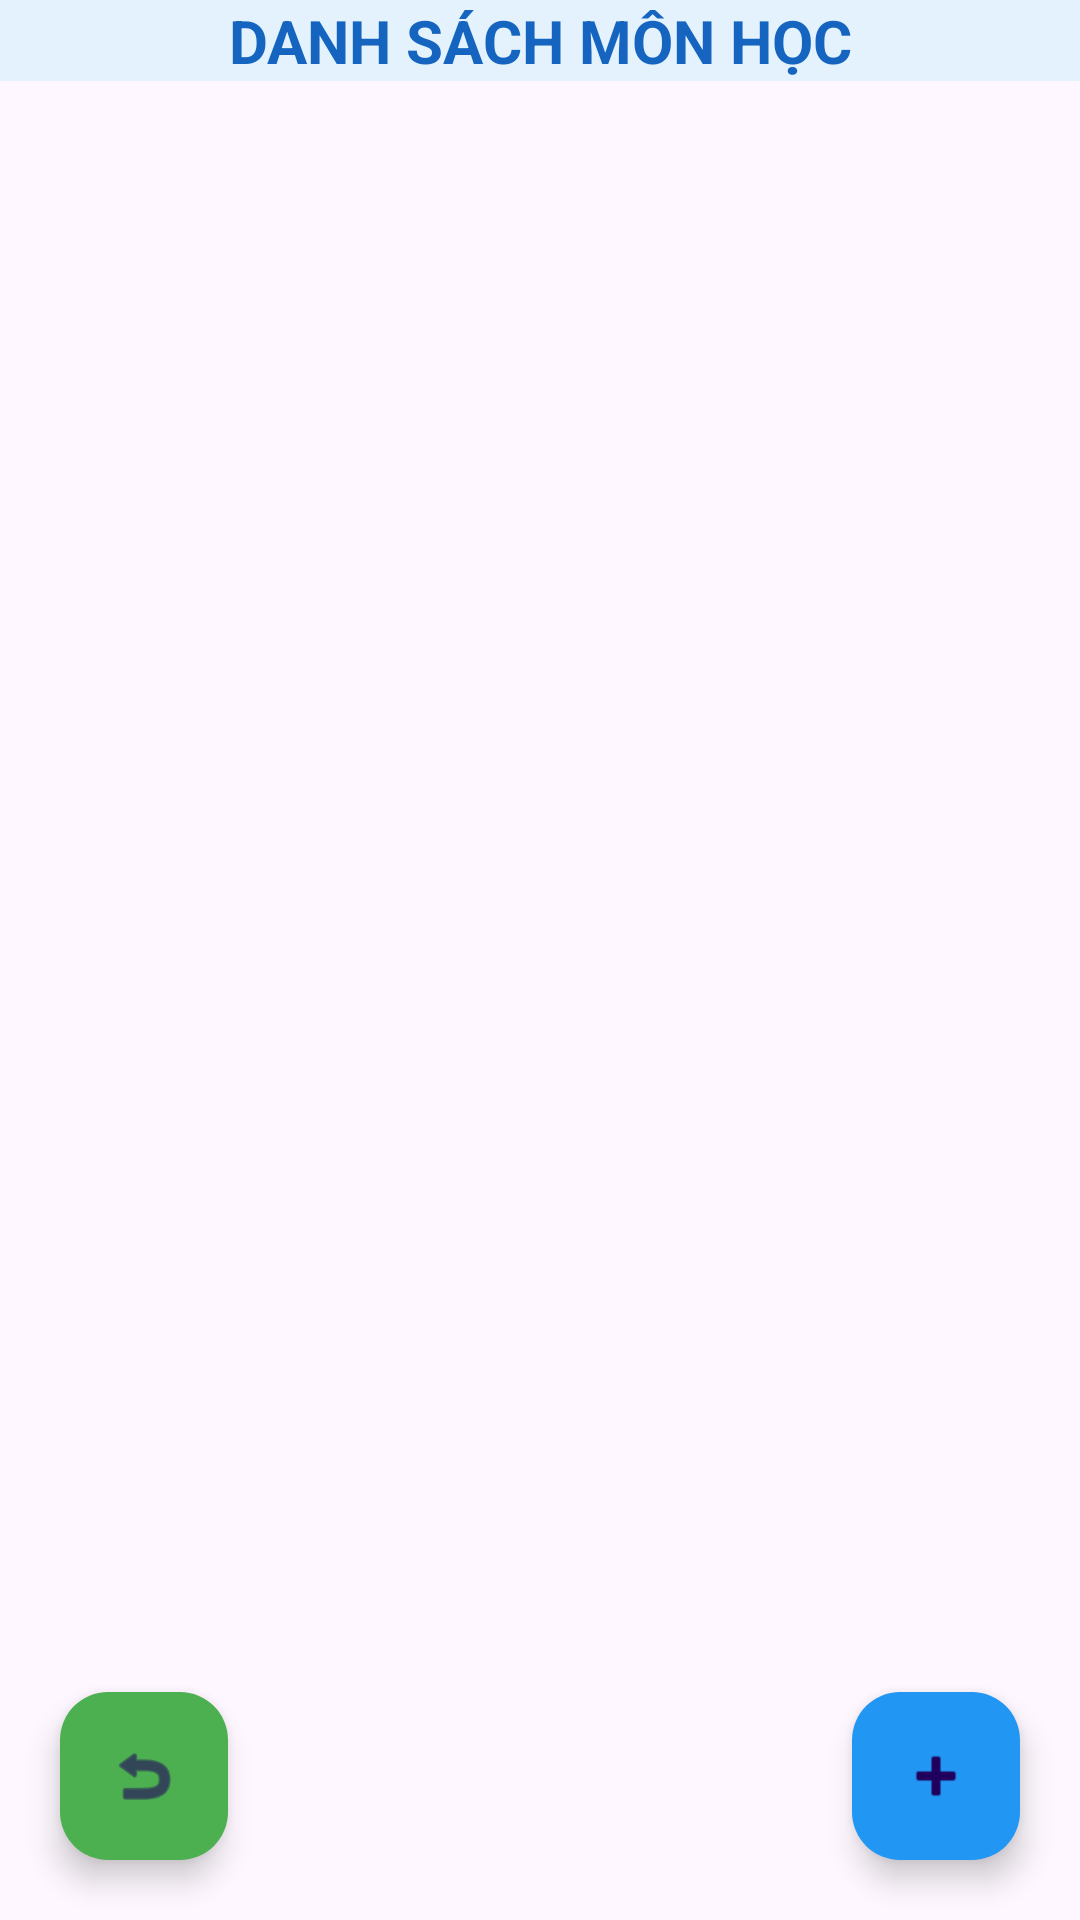

Locate icon controls on the screen. Image size 1080×1920, boxes as bbox=(x1, y1, x2, y2).
add: bbox=(852, 1692, 1020, 1860)
revert: bbox=(60, 1692, 228, 1860)
